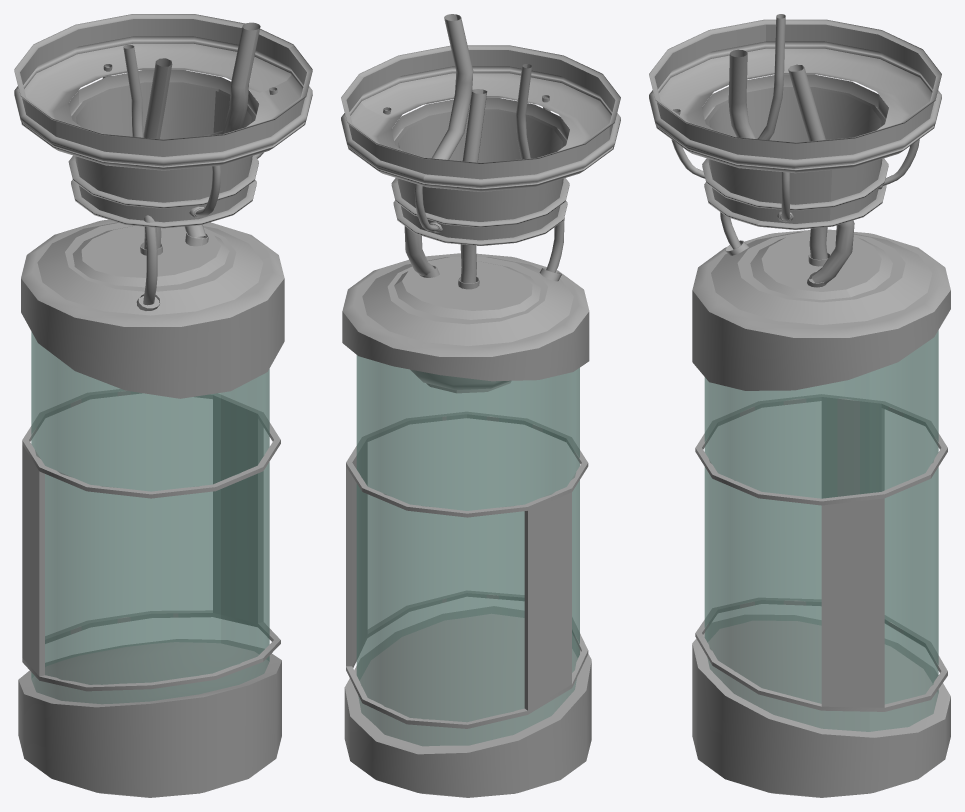
The model's file is pod_SM.fbx.
3 views of the same model, side by side, from view 1: azimuth 30°, elevation 25°; view 2: azimuth 150°, elevation 25°; view 3: azimuth 270°, elevation 25° (orthographic). The views are drawn at different scales.
Visible parts, largest first — view 1: pod_SM, vitre_SM; view 2: pod_SM, vitre_SM; view 3: pod_SM, vitre_SM.
Part boxes in pixels (x1=…): pod_SM: x1=14, y1=14, x2=312, y2=797; vitre_SM: x1=31, y1=331, x2=269, y2=704; pod_SM: x1=341, y1=14, x2=620, y2=797; vitre_SM: x1=356, y1=355, x2=579, y2=746; pod_SM: x1=649, y1=14, x2=950, y2=797; vitre_SM: x1=704, y1=330, x2=938, y2=731.
Bounding box in the file's own units: 7.56 × 7.84 × 20.71.
